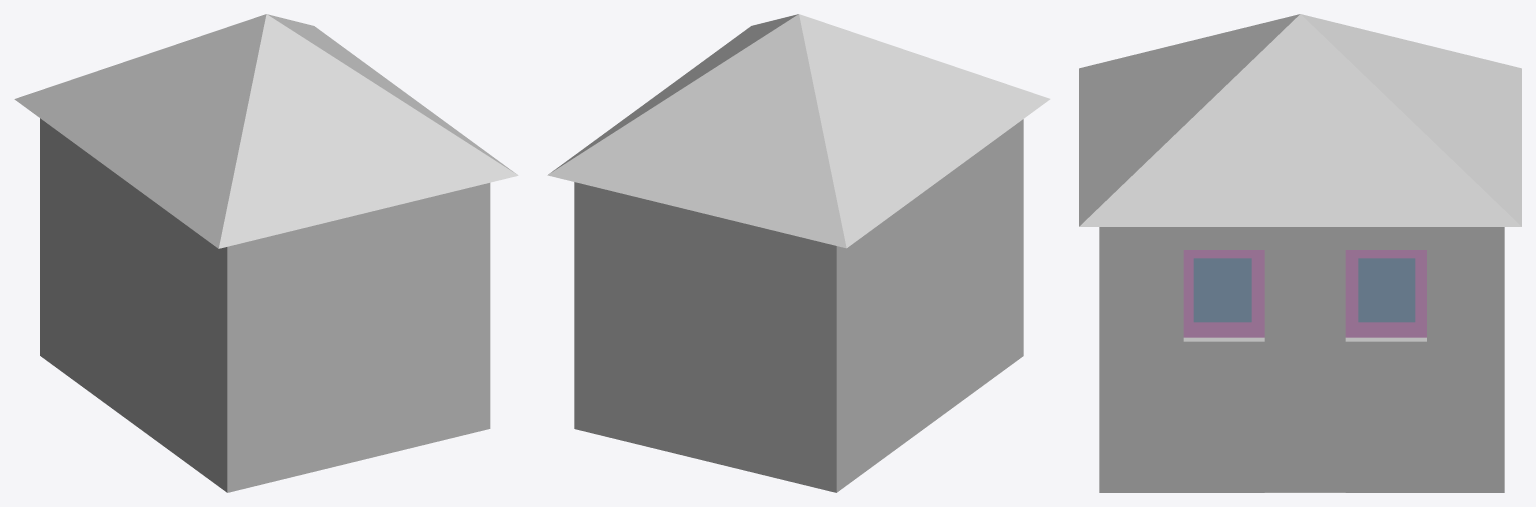
File: haus6.fbx
3 views of the same model, side by side, from view 1: azimuth 30°, elevation 25°; view 2: azimuth 150°, elevation 25°; view 3: azimuth 270°, elevation 25° (orthographic). The views are drawn at different scales.
Parts seen in each view (by area): view 1: haus; view 2: haus; view 3: haus.
Part boxes in pixels (x1=…): haus: x1=14, y1=14, x2=518, y2=492; haus: x1=547, y1=14, x2=1050, y2=492; haus: x1=1079, y1=14, x2=1521, y2=492.
Size of the model in its own units: 1174 by 994 by 1199.
